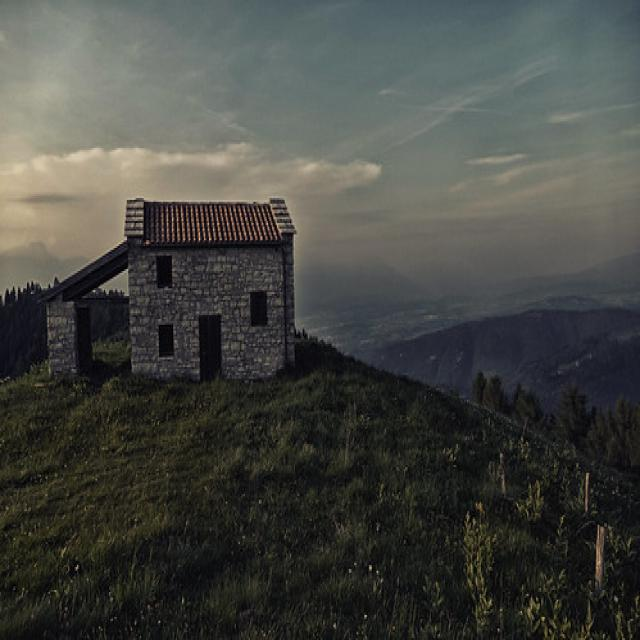Normal_building: (122, 192, 301, 390)
